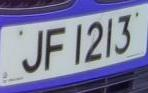1: (71, 15, 87, 76), (104, 13, 117, 64)
2: (84, 13, 106, 71)
3: (113, 11, 133, 59)
F: (43, 23, 69, 77)
J: (17, 26, 45, 78)
